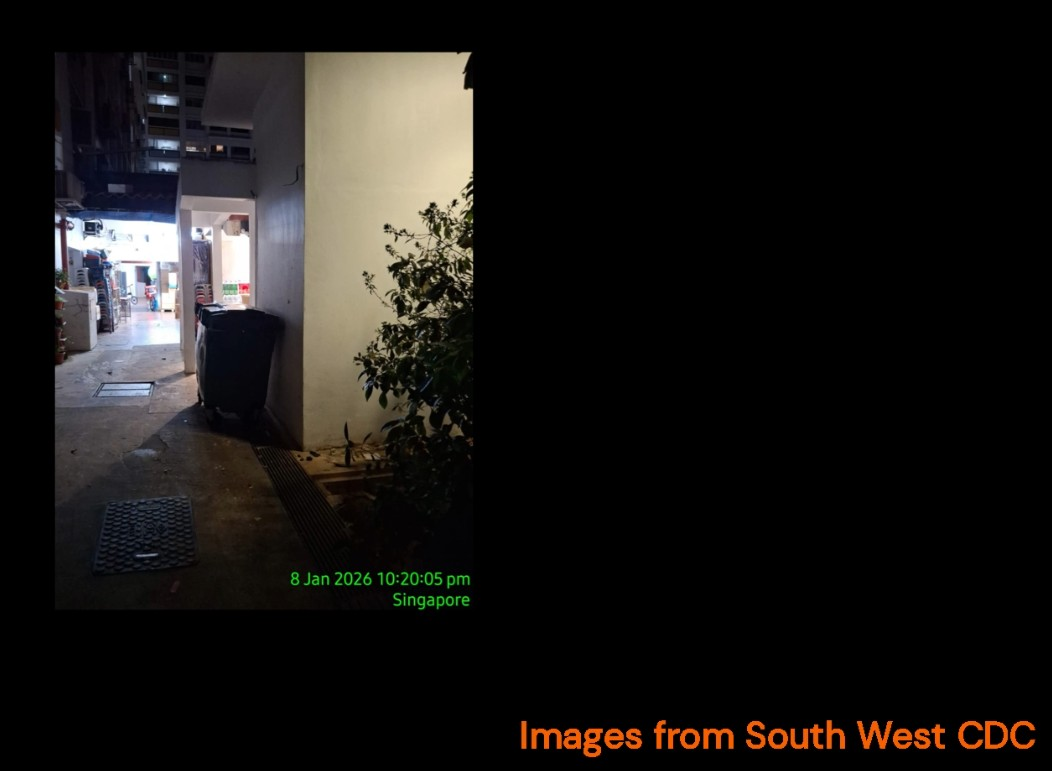bin_empty: (196, 304, 282, 420)
